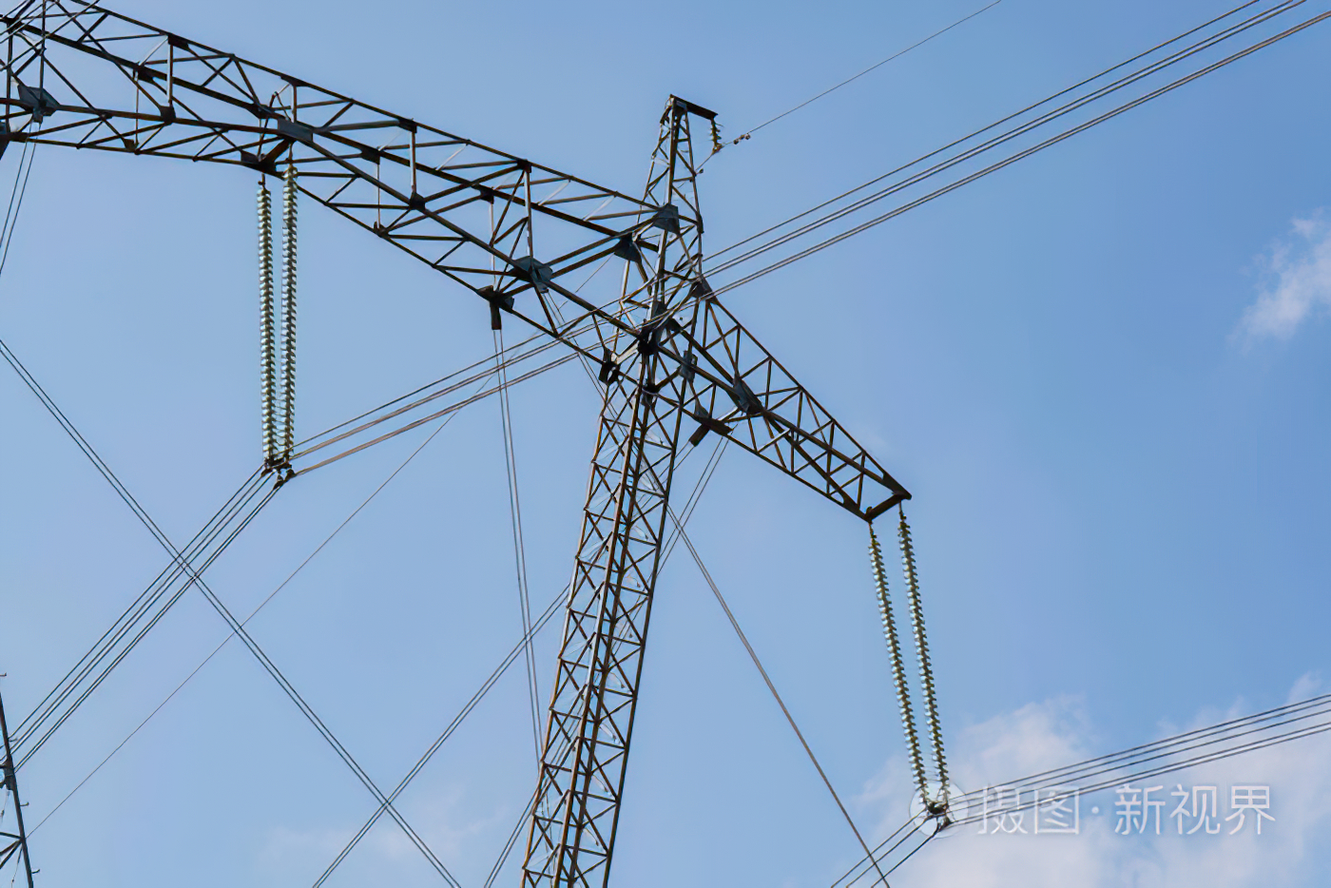insulator: (868, 517, 953, 810), (256, 165, 299, 463)
